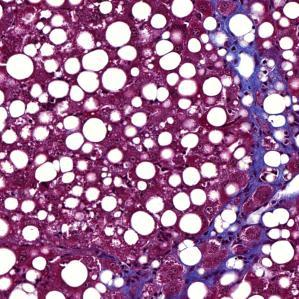fibrosis: (235, 68, 297, 187), (198, 219, 275, 274)
